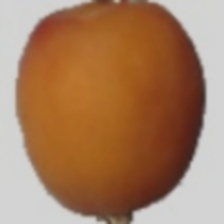apricot: (37, 23, 189, 201)
